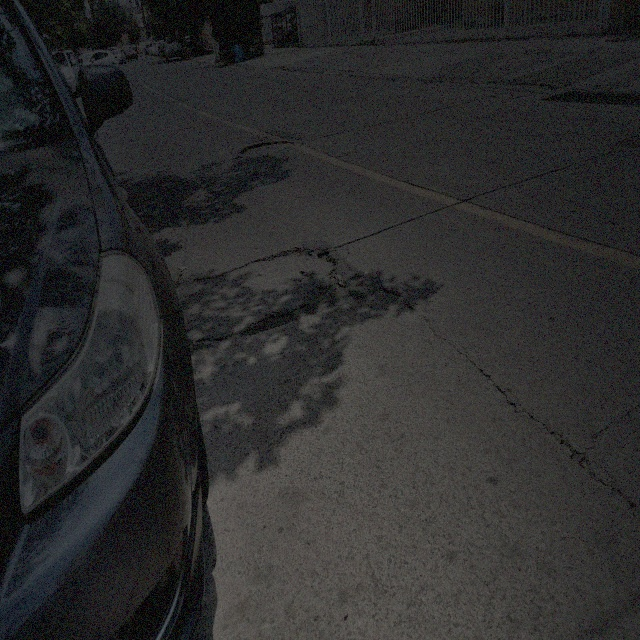pothole: (248, 299, 310, 338), (315, 245, 335, 278), (316, 281, 327, 302)
